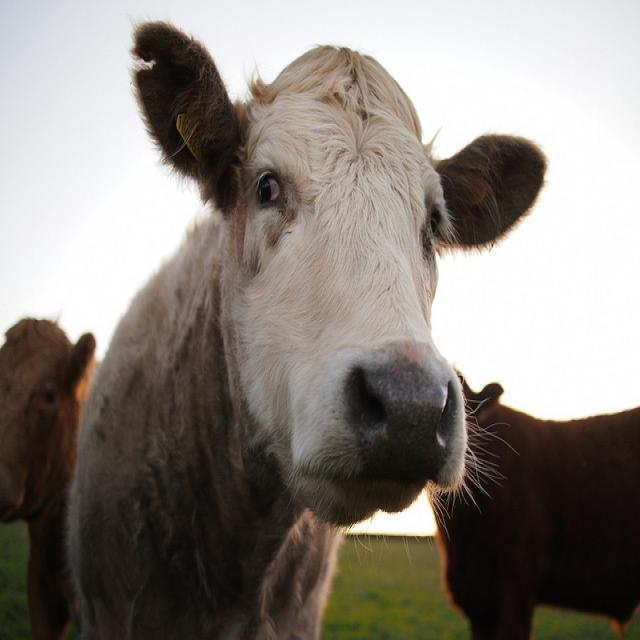cow: (64, 20, 551, 631), (427, 377, 639, 639), (0, 316, 99, 639)
